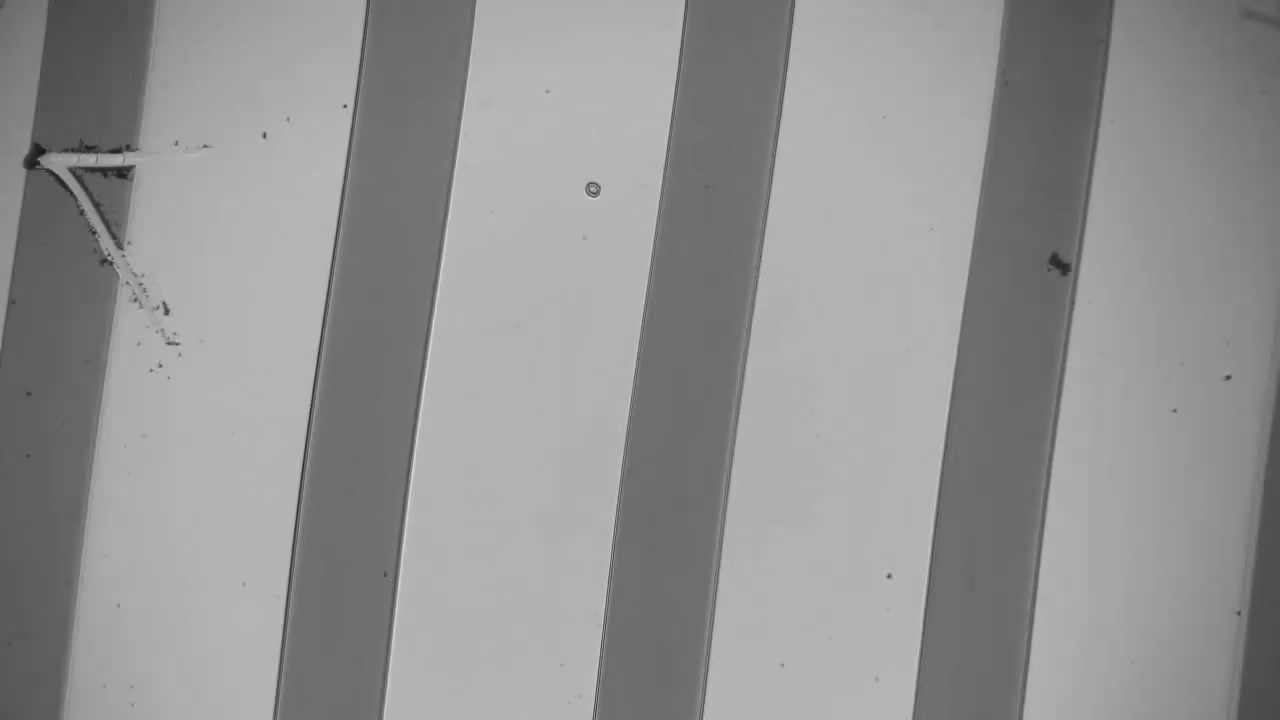Short_circuit: (9, 113, 163, 189)
